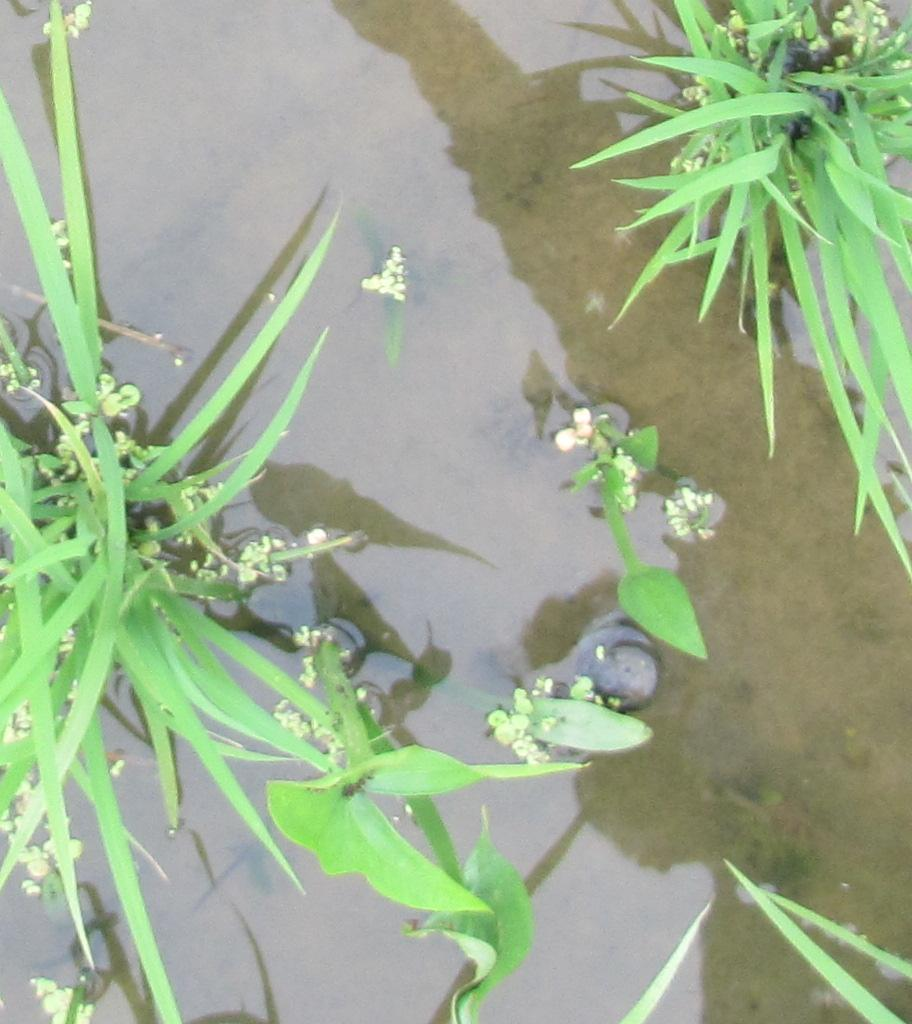Weed: (269, 744, 524, 928), (567, 403, 736, 677)
